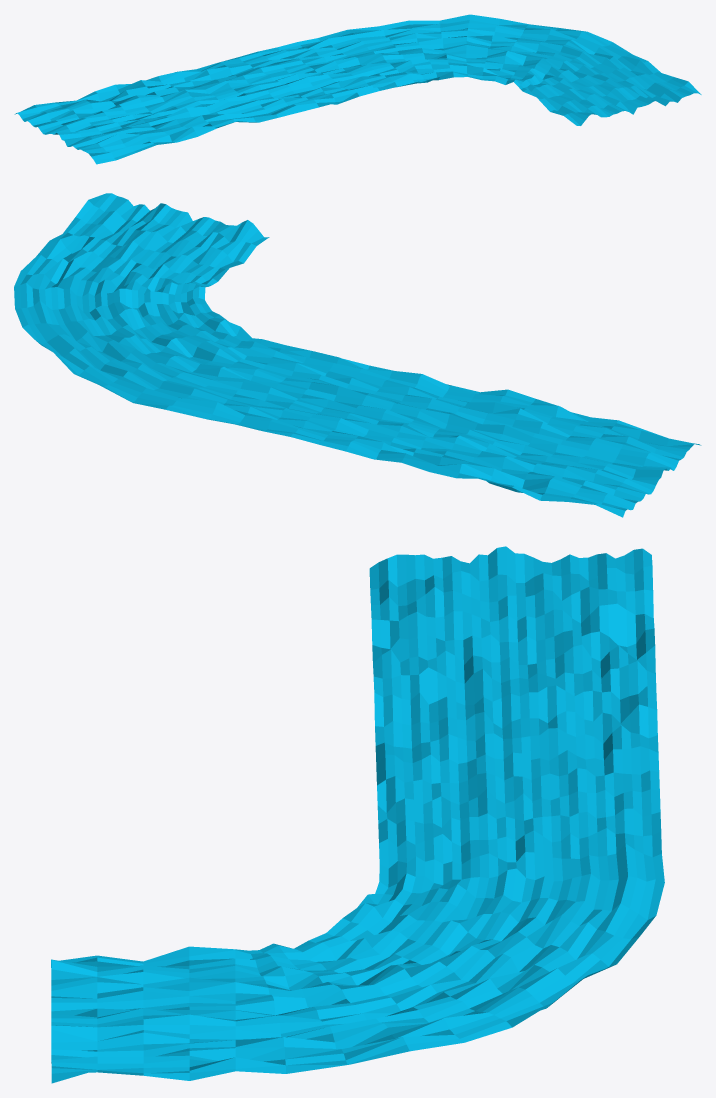
The model's file is River.fbx.
3 views of the same model, one above another, from view 1: azimuth 30°, elevation 25°; view 2: azimuth 150°, elevation 25°; view 3: azimuth 270°, elevation 25° (orthographic). The views are drawn at different scales.
Parts seen in each view (by area): view 1: Plane; view 2: Plane; view 3: Plane.
Part boxes in pixels (x1,y1,x2,y2): Plane: (14,14,701,164); Plane: (14,193,701,517); Plane: (51,546,664,1083).
Bounding box in the file's own units: 658 × 17.26 × 325.
